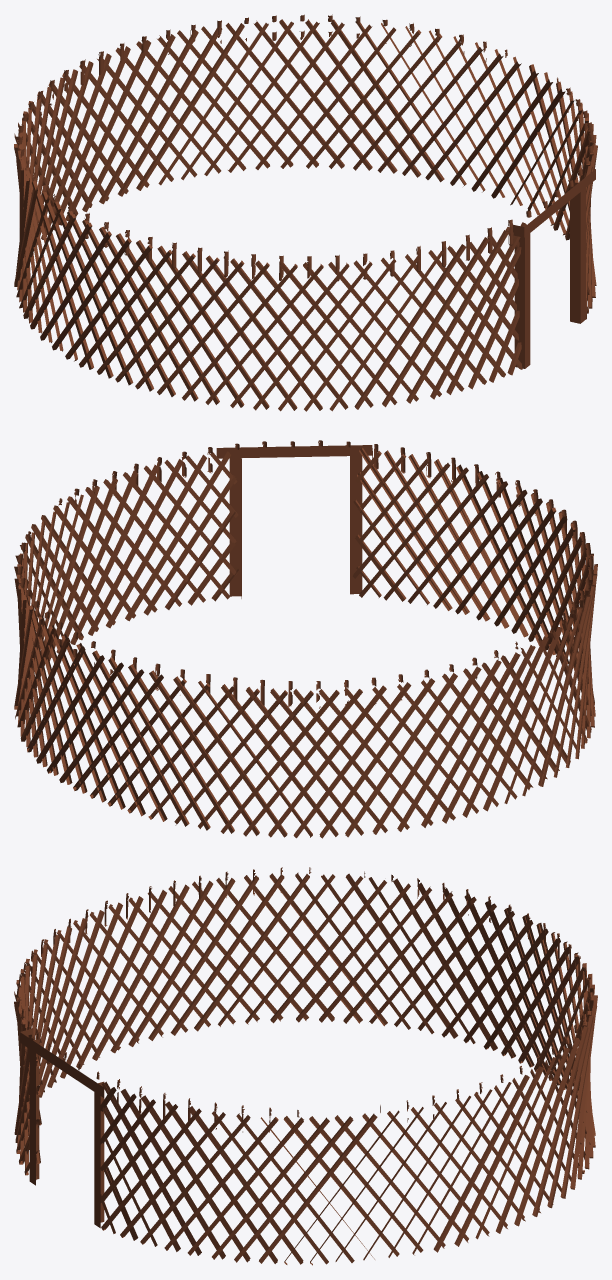
The model's file is walls.glb.
3 views of the same model, one above another, from view 1: azimuth 30°, elevation 25°; view 2: azimuth 150°, elevation 25°; view 3: azimuth 270°, elevation 25° (orthographic).
Visible parts, largest first — view 1: Cube.001; view 2: Cube.001; view 3: Cube.001.
Part boxes in pixels (bbox=[...]): Cube.001: bbox=[14, 14, 597, 411]; Cube.001: bbox=[14, 440, 597, 838]; Cube.001: bbox=[14, 867, 597, 1265].
Size of the model in its own units: 0.5823 by 0.1703 by 0.583.
